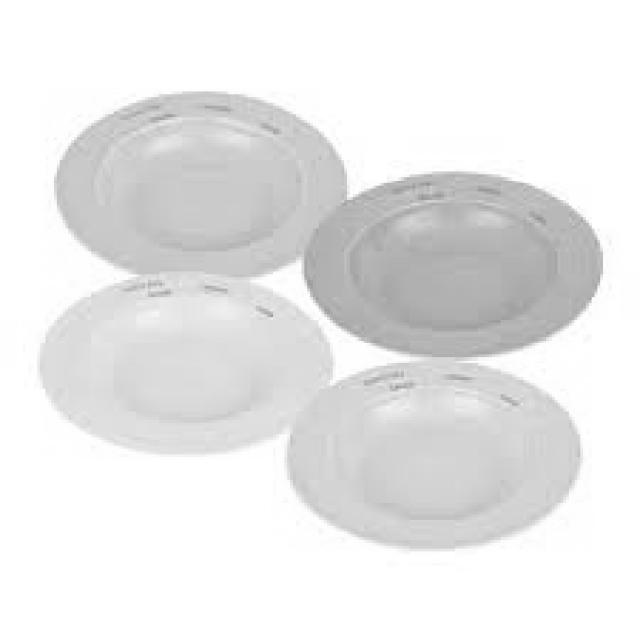dish: (13, 258, 360, 472)
